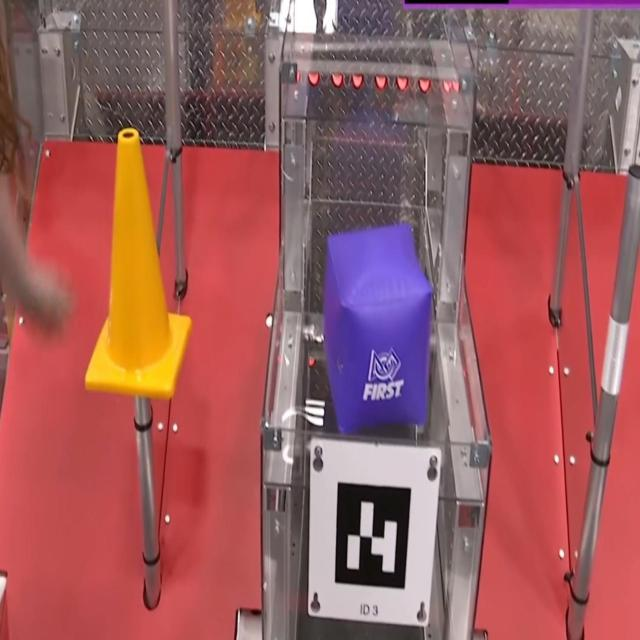frc_cone: (82, 120, 194, 400)
frc_cube: (320, 223, 433, 438)
